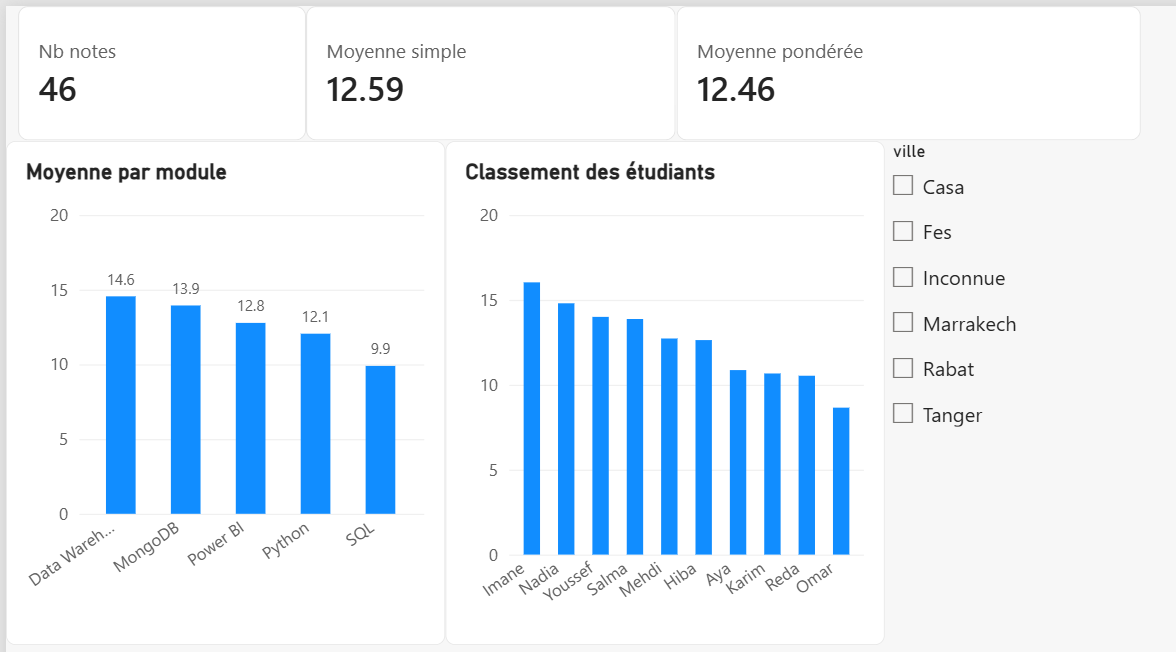

The dashboard page shown, as its layout file describes it:
{"tool":"powerbi","page":{"name":"Page 1","canvas":[1920,1080],"ordinal":0},"visuals":[{"type":"cardVisual","fields":{"Data":["notes_clean.Nb notes"]},"box":[10,0,240,112.9],"z":0},{"type":"cardVisual","title":"Moyenne simple","fields":{"Data":["notes_clean.moyenne"]},"box":[250,0,308.6,112.9],"z":1},{"type":"cardVisual","fields":{"Data":["notes_clean.Moyenne pondérée"]},"box":[558.6,0,387.1,112.9],"z":3},{"type":"clusteredColumnChart","title":"Moyenne par module","fields":{"Category":["modules.module"],"Y":["notes_clean.Moyenne pondérée"]},"box":[0,112.9,365.7,420],"z":4},{"type":"clusteredColumnChart","title":"Classement des étudiants","fields":{"Category":["etudiants_clean.prenom"],"Y":["notes_clean.Moyenne pondérée"]},"box":[365.7,112.9,366,420],"z":5},{"type":"slicer","fields":{"Values":["etudiants_clean.ville"]},"box":[731.4,112.9,401.4,410],"z":6}]}

Visuals, with their boxes in screenshot pixels (x1, y1, x2, y2), scaled from the page's 1920x1080 canvas onto the 1176x652 screenshot:
cardVisual - notes_clean.Nb notes: bbox=(6, 0, 153, 68)
"Moyenne simple" cardVisual: bbox=(153, 0, 342, 68)
cardVisual - notes_clean.Moyenne pondérée: bbox=(342, 0, 579, 68)
"Moyenne par module" clusteredColumnChart: bbox=(0, 68, 224, 322)
"Classement des étudiants" clusteredColumnChart: bbox=(224, 68, 448, 322)
slicer - etudiants_clean.ville: bbox=(448, 68, 694, 316)
